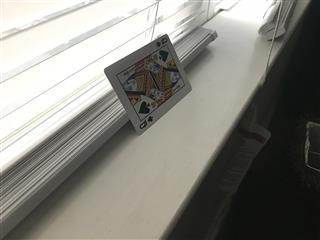QueenOfSpades: (102, 32, 193, 134)
